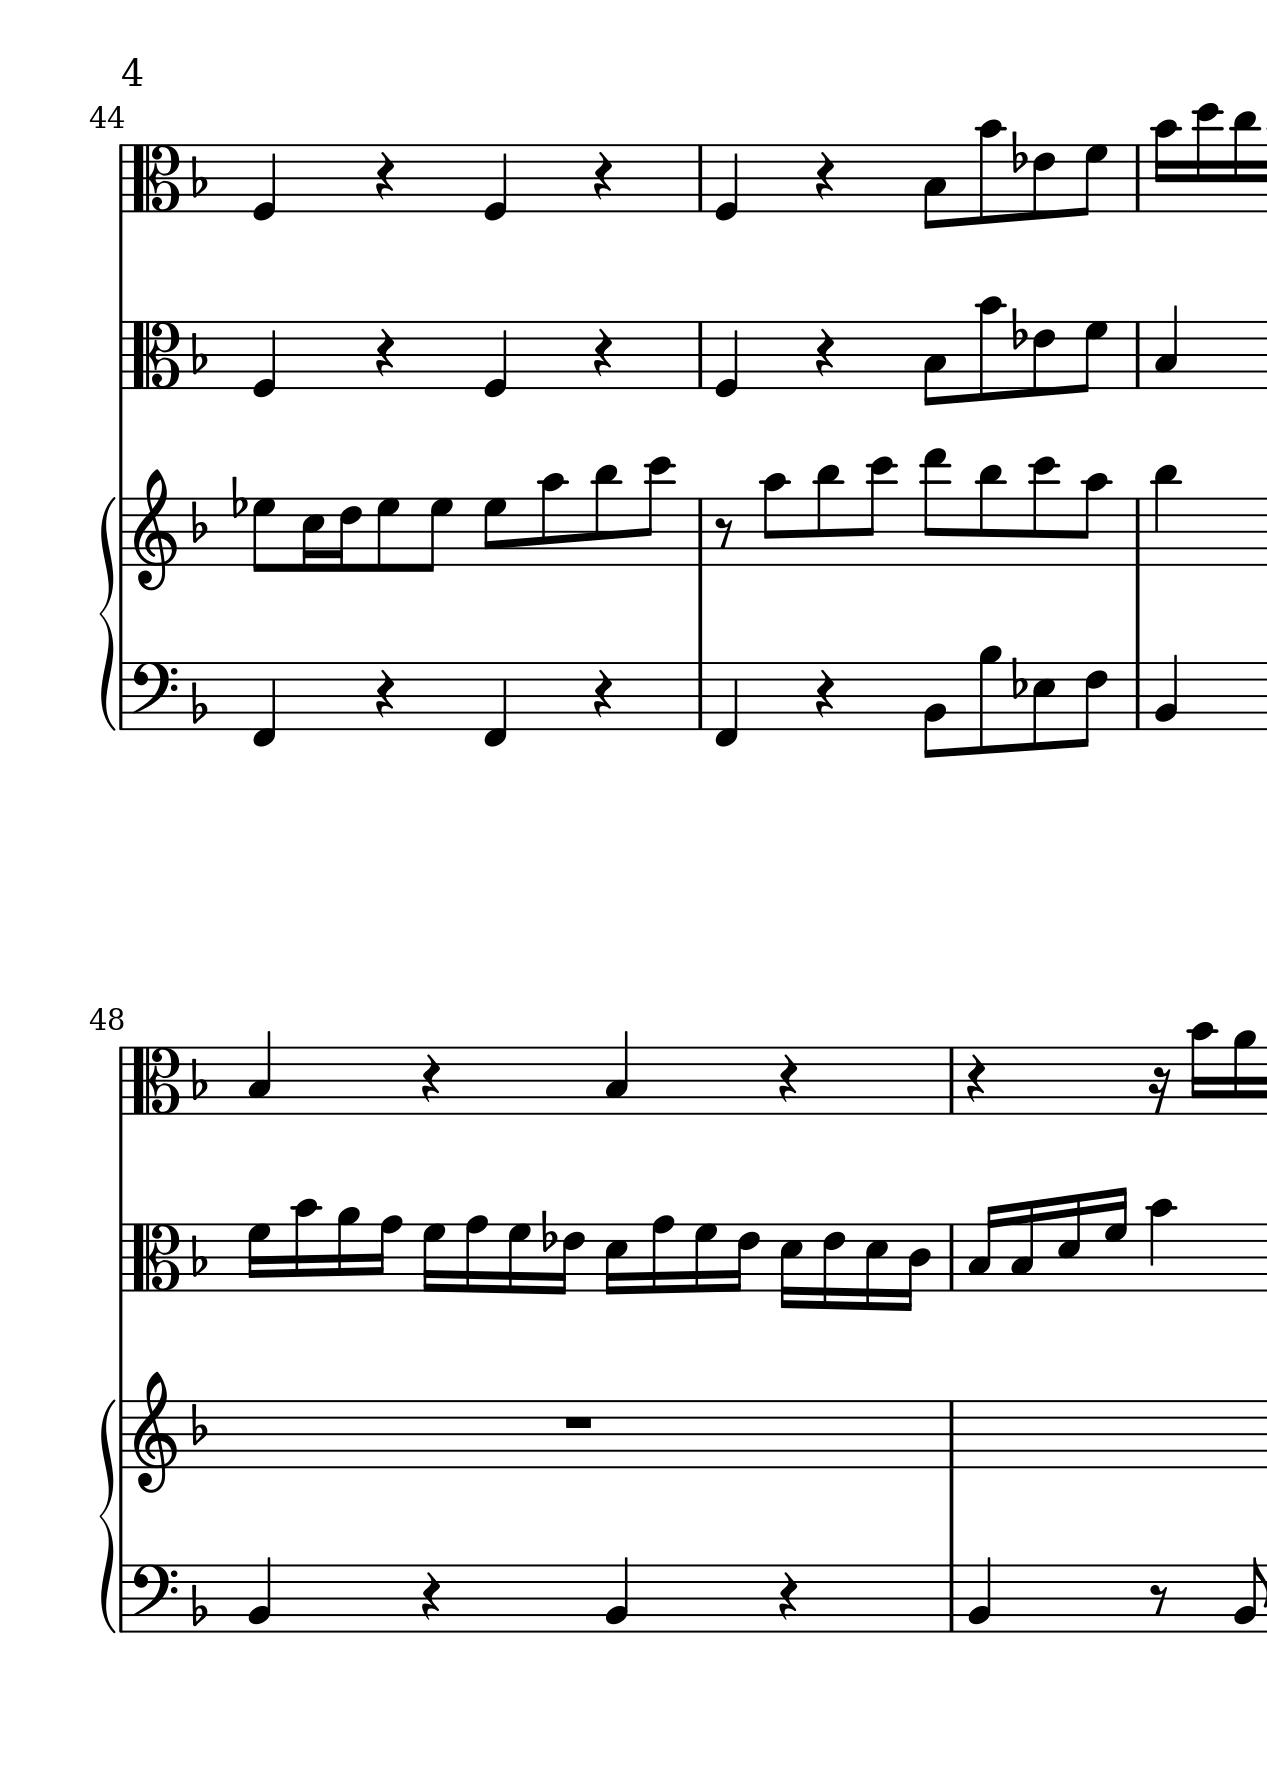16_10: (291, 1196, 319, 1294), (1187, 1020, 1216, 1117), (1150, 118, 1179, 214)
16_11: (1230, 108, 1257, 214)
16_12: (1192, 101, 1223, 215)
16_3: (965, 1202, 997, 1292), (1008, 1198, 1034, 1293)
16_4: (900, 1222, 931, 1312)
16_5: (1056, 1191, 1081, 1294), (862, 1222, 889, 1313), (298, 496, 326, 574), (777, 1222, 802, 1311), (602, 1222, 628, 1297)
16_6: (727, 1222, 760, 1293), (553, 1222, 584, 1296), (820, 1222, 846, 1311), (330, 496, 361, 573)
16_7: (1102, 1185, 1129, 1293), (505, 1222, 531, 1297), (420, 1222, 446, 1296), (691, 1222, 717, 1296), (244, 1222, 270, 1294)
16_8: (370, 1213, 402, 1293), (649, 1213, 675, 1296), (463, 1213, 488, 1296)
16_9: (1231, 1030, 1256, 1117), (335, 1207, 359, 1293)
4: (121, 55, 144, 88), (106, 104, 125, 132), (88, 104, 106, 132), (88, 1006, 106, 1032)
4_-1: (250, 661, 277, 749), (481, 661, 507, 749), (713, 661, 739, 749)
4_0: (713, 144, 739, 223), (251, 143, 276, 222), (483, 143, 507, 222), (251, 319, 276, 399), (714, 319, 739, 399), (483, 319, 507, 398)
4_10: (1146, 1196, 1175, 1294)
4_11: (1150, 463, 1178, 568)
4_2: (603, 1555, 632, 1634), (1152, 653, 1181, 731), (965, 1555, 993, 1634), (247, 1553, 273, 1634)
4_3: (245, 1030, 271, 1116), (603, 1030, 629, 1116), (1153, 304, 1178, 389)
8: (107, 1006, 123, 1032)
8_10: (1074, 472, 1108, 568), (974, 118, 1002, 226), (974, 295, 1002, 403), (760, 472, 788, 568), (538, 472, 565, 568)
8_11: (812, 463, 842, 568), (975, 463, 1005, 568), (591, 463, 618, 568)
8_12: (858, 454, 895, 569), (638, 455, 675, 568), (1028, 454, 1060, 569)
8_13: (917, 448, 950, 568)
8_2: (1231, 1556, 1264, 1634), (921, 659, 946, 760)
8_3: (920, 143, 948, 232), (921, 319, 948, 409)
8_5: (1028, 659, 1054, 753)
8_6: (1074, 661, 1109, 750), (1028, 143, 1054, 222), (1028, 319, 1054, 398)
8_7: (420, 496, 452, 574), (1074, 143, 1107, 217), (1074, 319, 1107, 393), (251, 496, 276, 574), (374, 496, 399, 573), (481, 496, 507, 568)
8_9: (975, 644, 1000, 757)
Brace: (96, 1399, 117, 1634), (96, 498, 117, 732)
Cclef: (130, 1222, 181, 1292), (132, 143, 181, 214), (132, 319, 181, 391), (130, 1045, 180, 1115)
Fclef: (128, 659, 177, 734), (129, 1562, 178, 1633)
Flat: (188, 154, 208, 202), (188, 680, 208, 727), (189, 330, 208, 377), (189, 1234, 208, 1279), (188, 1403, 207, 1448), (189, 1058, 208, 1102), (538, 1208, 555, 1255), (189, 499, 207, 544), (229, 474, 247, 520), (189, 1582, 207, 1627), (1009, 130, 1026, 175), (1009, 655, 1026, 701), (1011, 307, 1026, 351)
Gclef: (132, 468, 177, 591), (132, 1370, 176, 1493)
Rests1: (559, 1412, 595, 1431)
Rests16: (1146, 1065, 1170, 1116)
Rests4: (372, 149, 396, 202), (590, 149, 614, 202), (590, 326, 614, 378), (590, 668, 614, 720), (812, 328, 835, 378), (776, 1571, 799, 1622), (813, 149, 835, 202), (373, 326, 395, 378), (373, 668, 395, 720), (420, 1053, 442, 1105), (776, 1053, 798, 1105), (813, 668, 835, 718), (964, 1054, 986, 1105), (420, 1571, 442, 1622)
Rests8: (1146, 1582, 1170, 1617), (713, 516, 734, 548)
Single_barline: (111, 1224, 132, 1292), (941, 1401, 961, 1467), (691, 145, 710, 213), (691, 322, 710, 389), (111, 1048, 130, 1115), (111, 144, 129, 213), (1129, 498, 1146, 566), (112, 322, 130, 389), (690, 499, 708, 566), (691, 664, 709, 731), (942, 1564, 960, 1632), (1129, 145, 1146, 211), (942, 1048, 960, 1113), (942, 1224, 960, 1290), (1130, 322, 1146, 388), (1130, 664, 1146, 729), (114, 498, 129, 566), (114, 1400, 129, 1468), (115, 1564, 129, 1633), (115, 662, 129, 729)
